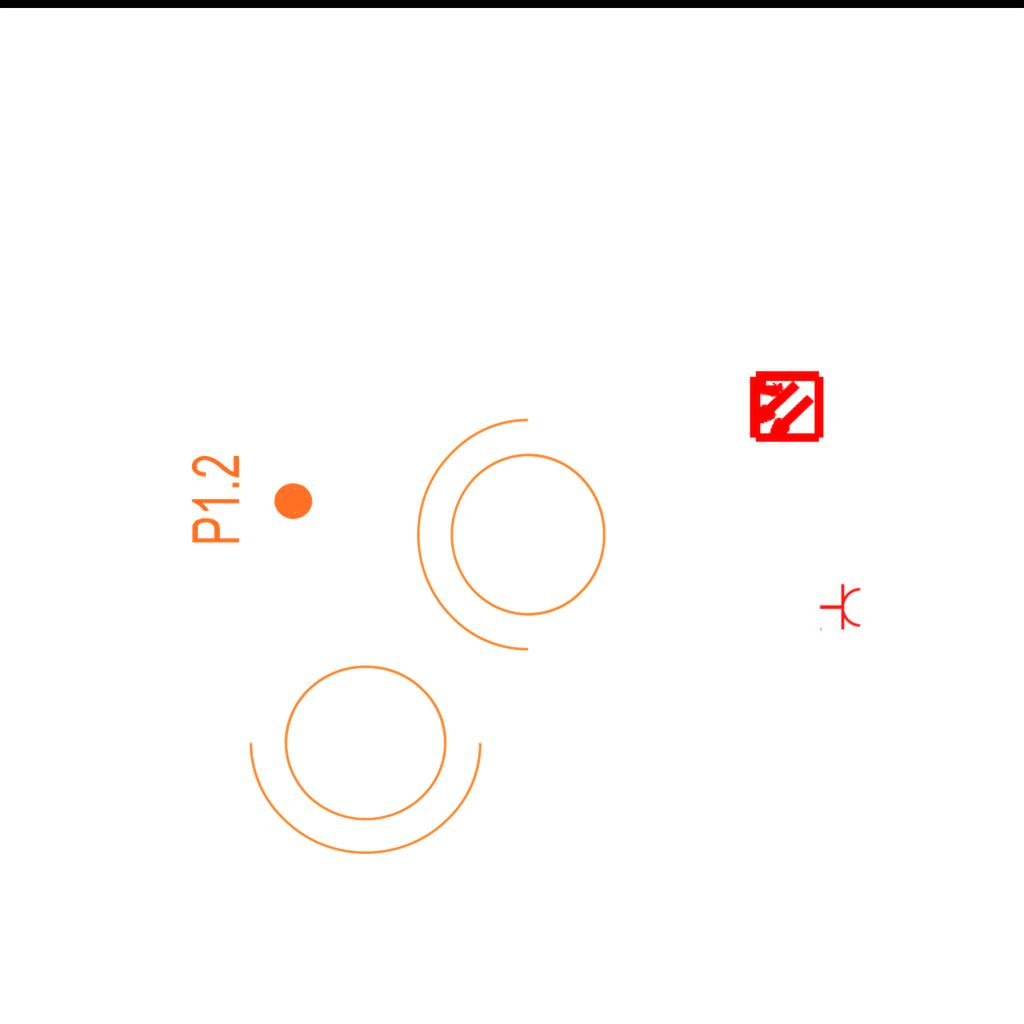Downlight_LED_Einbauleuchten_Flur: (188, 453, 316, 546)
OT_Multisensormelder_(Kombination_RMO_WMD): (728, 350, 841, 463)
Scheinwerfer_fuer_Alarmbeleuchtung: (240, 640, 504, 865), (406, 409, 631, 673)
Schukosteckdose_einfach: (819, 583, 862, 633)
